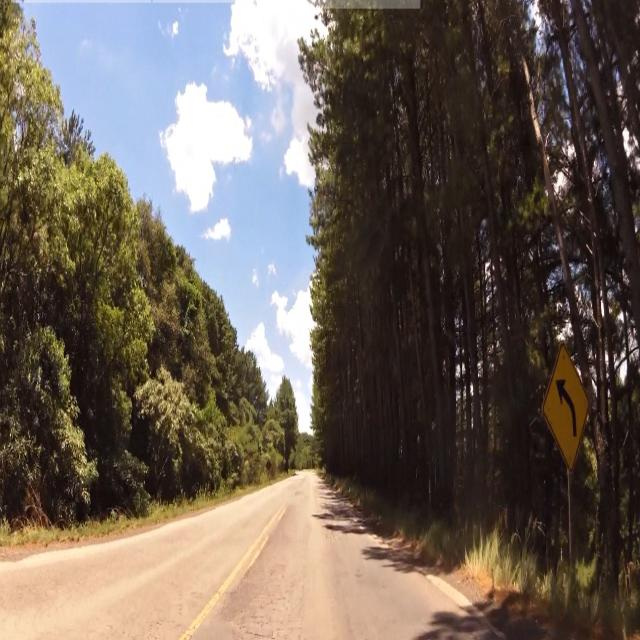A-2a: (538, 341, 594, 460)
